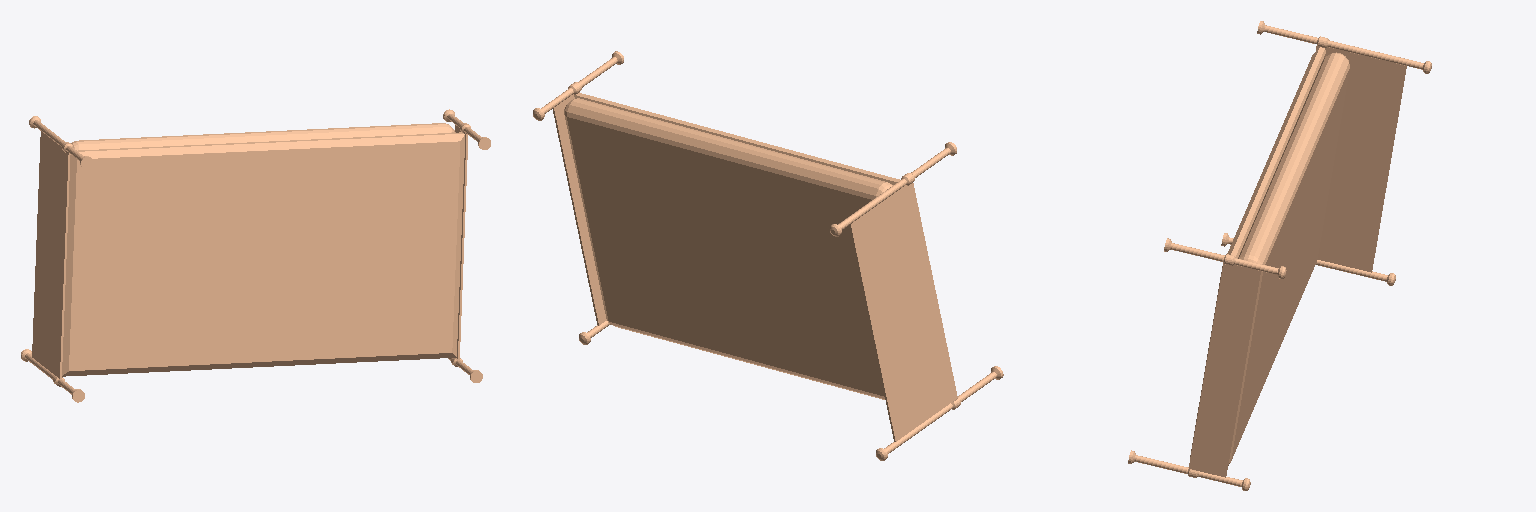
The robot description file, URDF, robot "table":
<?xml version="0.0" ?>
<robot name="table">
  <link name="tableLink">
  <contact>
      <lateral_friction value="1"/>
  </contact>
    <inertial>
      <origin rpy="0 0 0" xyz="0 0 0"/>
       <mass value="0.01"/>
       <inertia ixx="1e-3" ixy="0" ixz="0" iyy="1e-3" iyz="0" izz="1e-3"/>
    </inertial>
    <visual>
      <origin rpy="0 0 0" xyz="0 0 0"/>
      <geometry>
	<mesh filename="Bed.obj" scale="1 1 1"/>
      </geometry>
       <material name="black">
        <color rgba="1 0.8 0.65 1"/>
      </material>
    </visual>
    <collision>
      <origin rpy="0 0 0" xyz="0 0 0"/>
      <geometry>
	 <mesh filename="Bed.obj" scale="1 1 1"/>
      </geometry>
    </collision>
  </link>
</robot>

--- Facts derived from the render (not from the file) ---
Views: 3 orthographic renders of the robot side by side, from view 1: azimuth 30°, elevation 25°; view 2: azimuth 150°, elevation 25°; view 3: azimuth 270°, elevation 25°.
Robot: table — 1 links, 0 joints (none); root link tableLink; default pose: every joint at zero.
Visible links, largest first — view 1: tableLink; view 2: tableLink; view 3: tableLink.
Boxes of the visible links, x1,y1,x2,y2 form: tableLink: [21, 109, 490, 402]; tableLink: [533, 51, 1003, 460]; tableLink: [1128, 21, 1431, 490].
Size in the robot's own frame: 2.01 by 1.23 by 1.3 metres.
1 mesh visuals loaded from 1 distinct referenced files (1 OBJ).